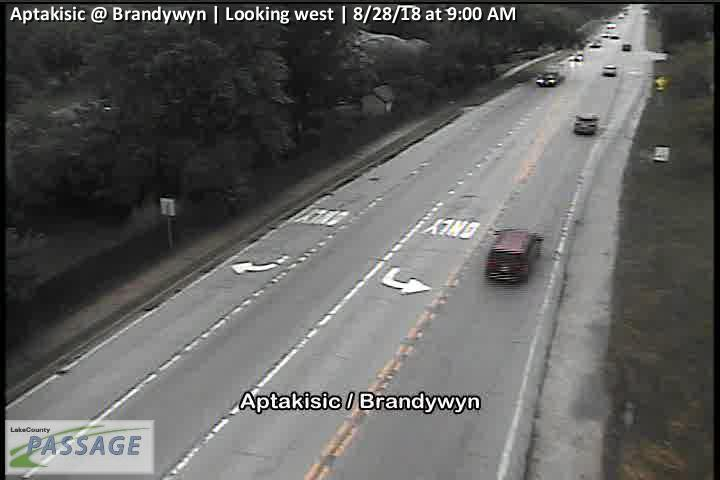SUV: (487, 229, 536, 280)
Sedan: (574, 112, 599, 134), (536, 70, 561, 86), (602, 63, 616, 76), (568, 53, 583, 62), (620, 41, 633, 51), (589, 38, 601, 48)
